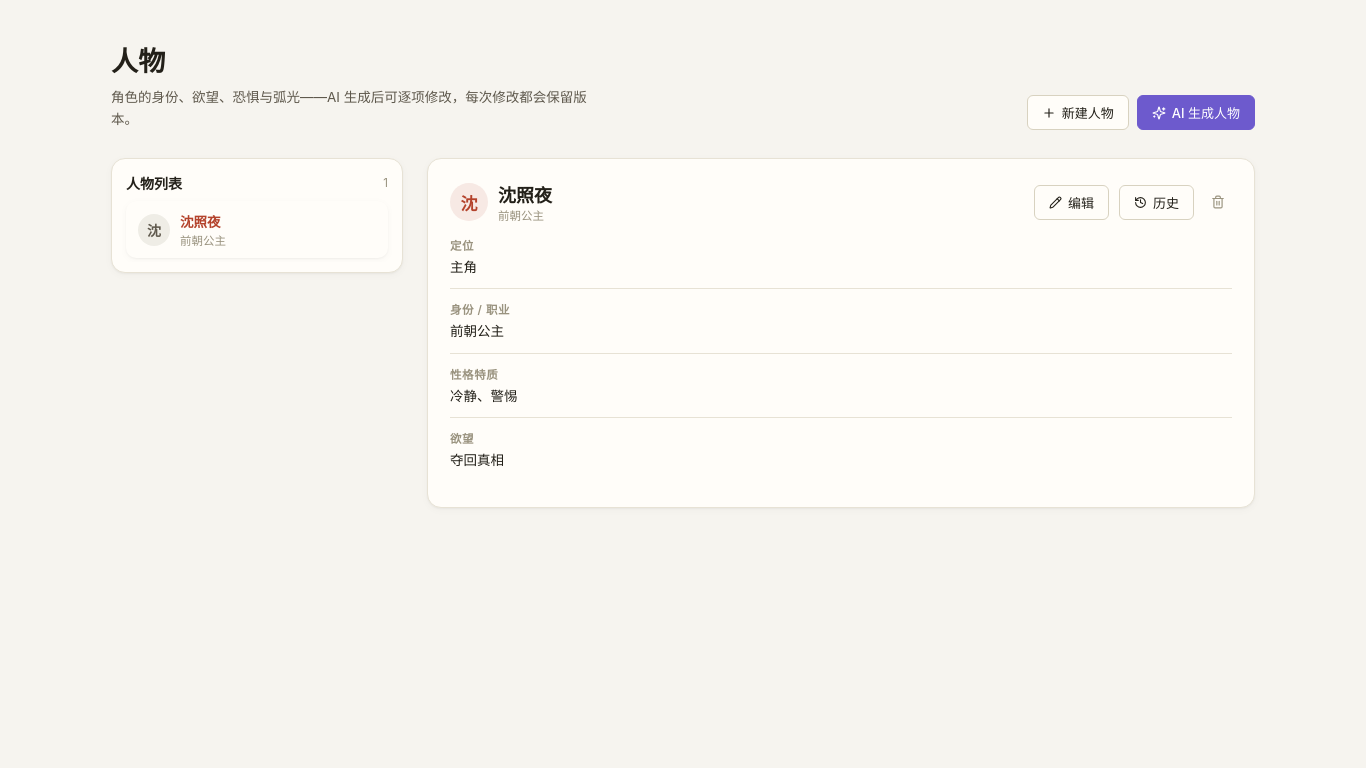
Scenario: 人物页历史按钮打开版本抽屉
Click the button "历史": (1156, 202) [1119,185,1194,220]
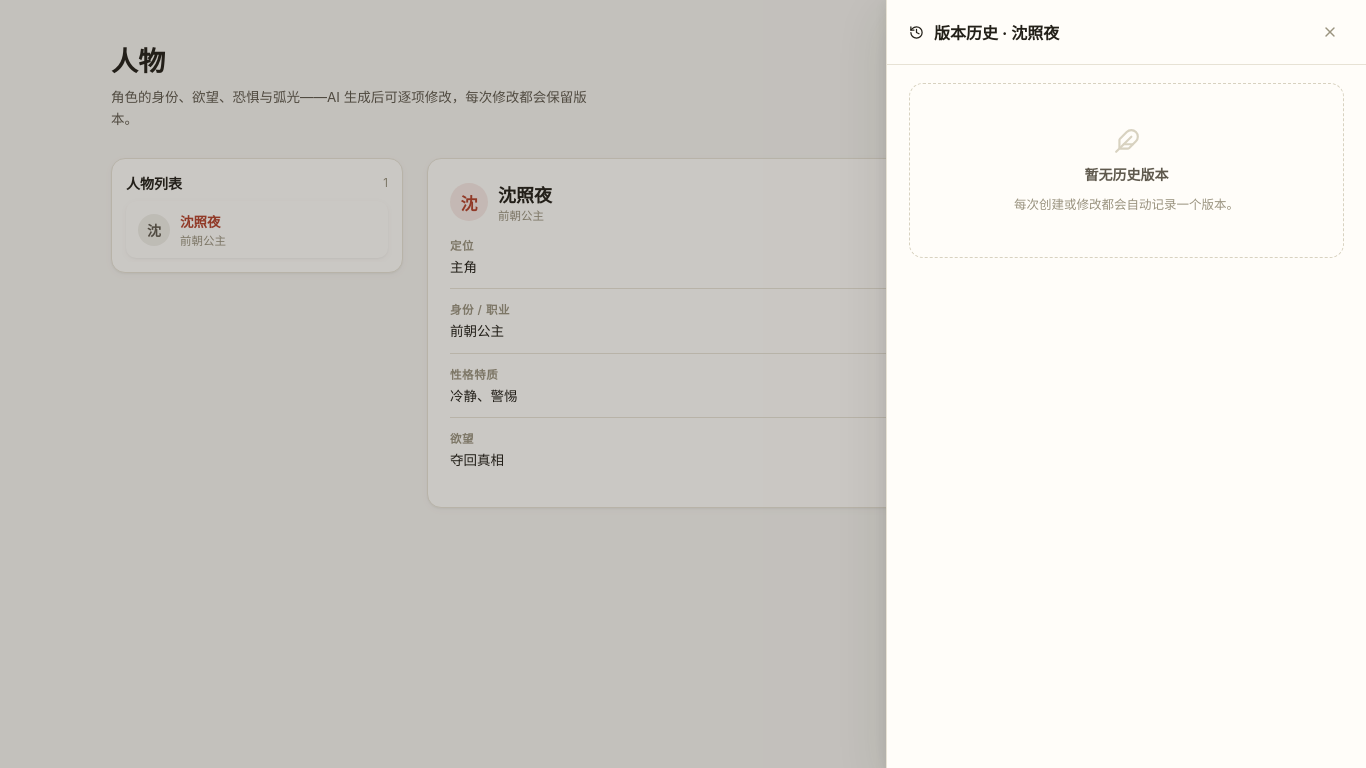
Expected: the text "版本历史 · 沈照夜" is shown, [909,20,1059,44]
